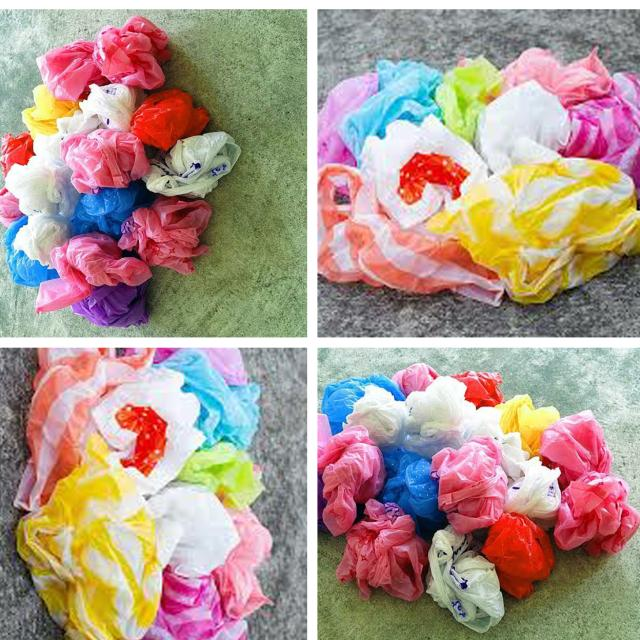plastik: (429, 159, 640, 304), (17, 434, 162, 640), (318, 164, 504, 305), (14, 348, 154, 512), (539, 410, 640, 555), (92, 368, 205, 496), (361, 116, 488, 228), (346, 376, 476, 458), (339, 59, 442, 161), (157, 348, 260, 449), (559, 73, 640, 199), (36, 233, 153, 313), (336, 500, 429, 600), (147, 482, 240, 577), (476, 81, 570, 172), (426, 526, 504, 632), (5, 155, 79, 266), (140, 567, 248, 640), (118, 195, 212, 274), (318, 426, 386, 535), (554, 471, 640, 555), (502, 47, 612, 108), (213, 508, 272, 619), (143, 132, 241, 198), (481, 513, 555, 598), (436, 55, 503, 143), (318, 73, 378, 167), (94, 15, 170, 89), (502, 432, 561, 527), (322, 373, 405, 435), (131, 89, 209, 151), (71, 182, 155, 237), (36, 39, 108, 102), (57, 84, 138, 135), (343, 384, 408, 447), (496, 394, 561, 457), (4, 215, 59, 288), (71, 282, 149, 327), (453, 371, 504, 408), (0, 188, 24, 226)
